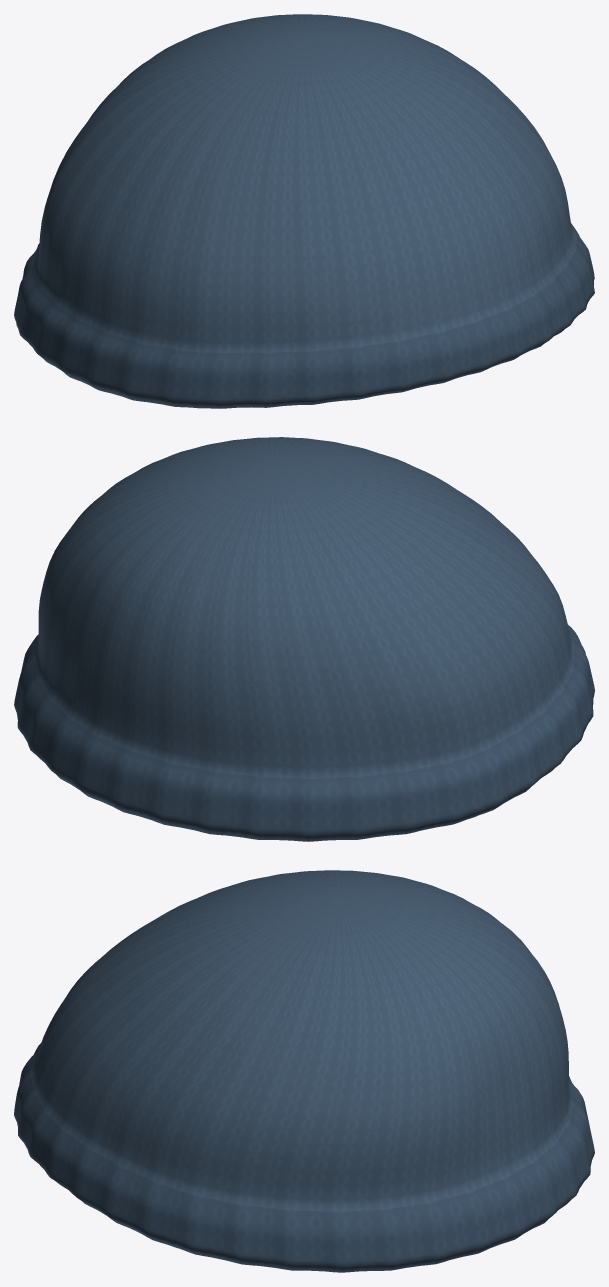
The model's file is beanie-feminine-straight.glb.
3 views of the same model, one above another, from view 1: azimuth 30°, elevation 25°; view 2: azimuth 150°, elevation 25°; view 3: azimuth 270°, elevation 25° (orthographic). The views are drawn at different scales.
Parts seen in each view (by area): view 1: Beanie / fitted knit; view 2: Beanie / fitted knit; view 3: Beanie / fitted knit.
Boxes of the visible parts, x1,y1,x2,y2 form: Beanie / fitted knit: [14, 14, 594, 408]; Beanie / fitted knit: [14, 437, 594, 841]; Beanie / fitted knit: [14, 870, 594, 1272].
Size of the model in its own units: 0.8108 by 0.4059 by 0.7968.
Materials: 2 (2 with a texture image).
